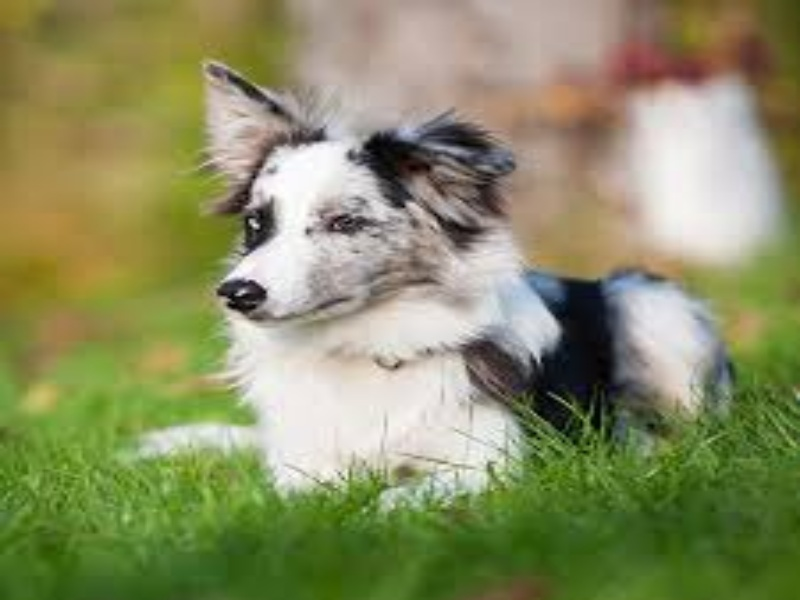dog: (175, 49, 742, 526)
